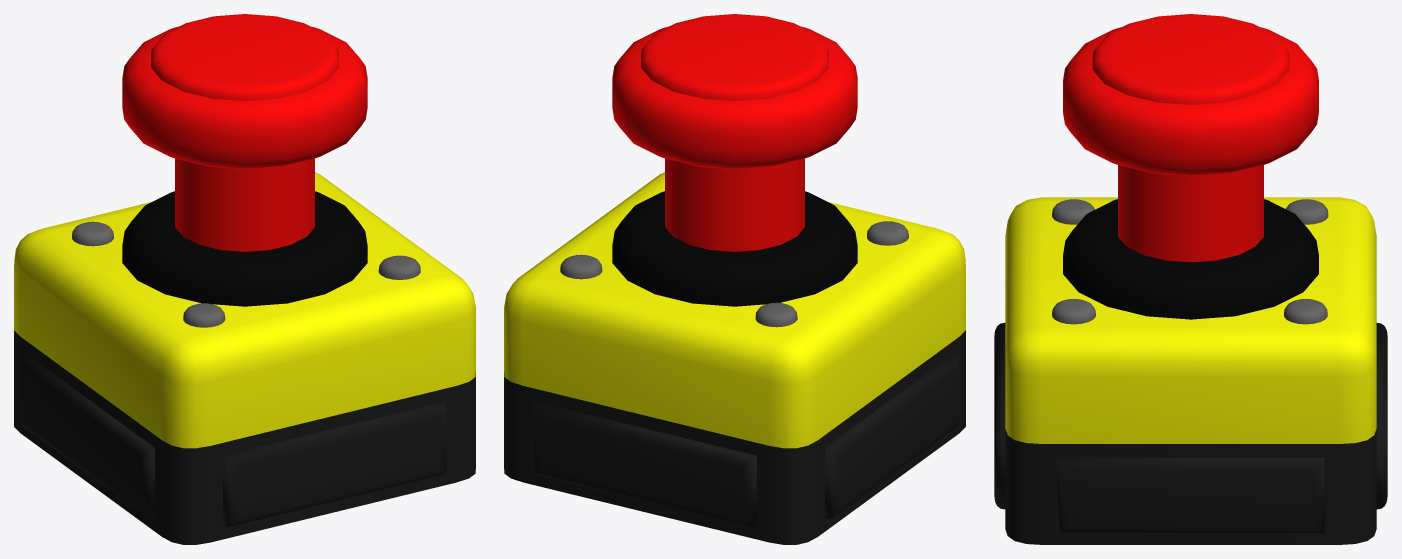
Rendered from Button.fbx.
3 views of the same model, side by side, from view 1: azimuth 30°, elevation 25°; view 2: azimuth 150°, elevation 25°; view 3: azimuth 270°, elevation 25° (orthographic). The views are drawn at different scales.
Parts seen in each view (by area): view 1: Base Yellow, Base Grey, Top Button, Black Cylinder, Button Shaft, Screw3, Screw2, Screw4; view 2: Base Yellow, Base Grey, Top Button, Black Cylinder, Button Shaft, Screw3, Screw1, Screw4; view 3: Base Yellow, Base Grey, Top Button, Black Cylinder, Button Shaft, Screw1, Screw2, Screw3, Screw4.
Boxes of the visible parts, x1,y1,x2,y2 form: Base Yellow: (14, 172, 475, 448); Base Grey: (14, 330, 475, 544); Top Button: (122, 14, 367, 169); Black Cylinder: (122, 191, 367, 306); Button Shaft: (175, 158, 314, 251); Screw3: (183, 303, 225, 327); Screw2: (378, 255, 420, 279); Screw4: (72, 221, 113, 246); Base Yellow: (504, 172, 965, 448); Base Grey: (504, 330, 965, 544); Top Button: (612, 14, 857, 169); Black Cylinder: (612, 191, 857, 306); Button Shaft: (665, 158, 804, 251); Screw3: (867, 221, 908, 245); Screw1: (560, 254, 602, 279); Screw4: (755, 302, 797, 327); Base Yellow: (1005, 197, 1376, 443); Base Grey: (994, 322, 1387, 544); Top Button: (1063, 14, 1318, 175); Black Cylinder: (1063, 199, 1318, 319); Button Shaft: (1118, 165, 1263, 262); Screw1: (1284, 299, 1327, 324); Screw2: (1052, 299, 1095, 324); Screw3: (1052, 199, 1094, 224); Screw4: (1286, 199, 1328, 224).
Bounding box in the file's own units: 53 × 61.63 × 53.
